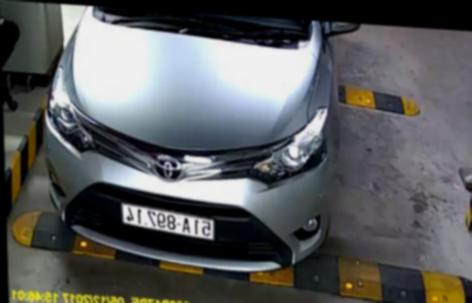License_Plate: (117, 198, 218, 242)
